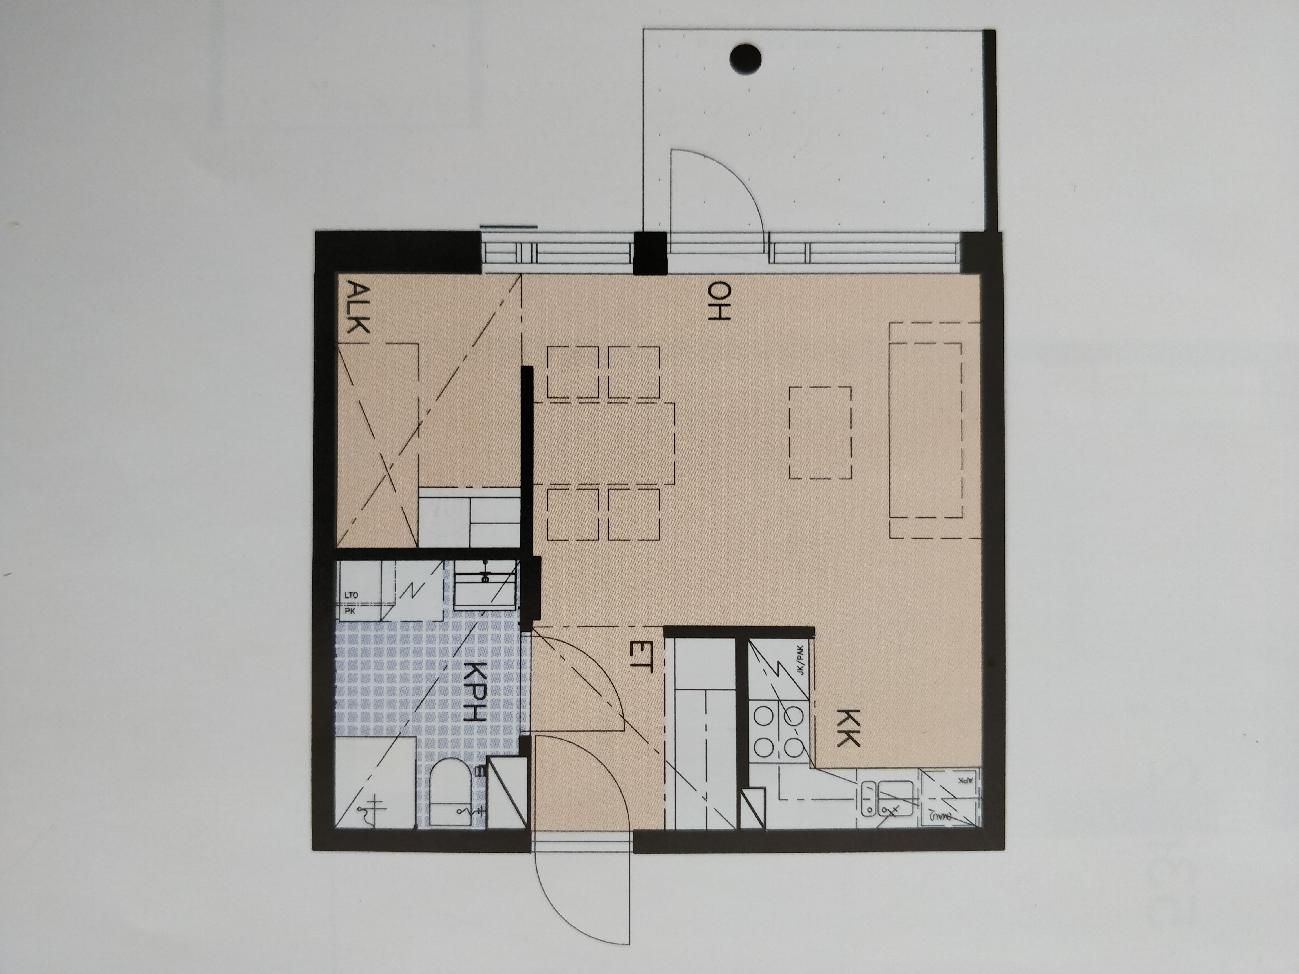door: (524, 727, 652, 951), (517, 628, 628, 744), (668, 144, 762, 265)
window: (481, 230, 637, 278), (759, 232, 956, 270)
zone: (531, 274, 982, 828), (642, 31, 986, 232), (334, 271, 531, 550), (335, 558, 527, 832)
